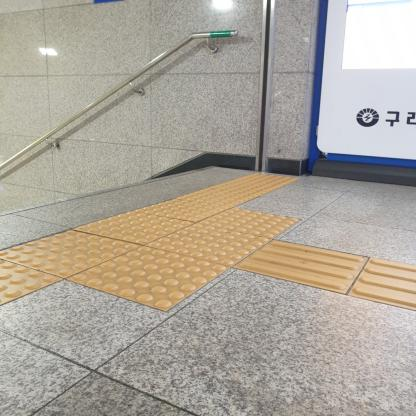go: (232, 239, 370, 294)
stop: (65, 245, 230, 312), (15, 229, 143, 278), (143, 223, 274, 267), (71, 211, 196, 245), (196, 207, 302, 239), (132, 198, 233, 223), (175, 188, 260, 207), (207, 179, 282, 196), (235, 173, 300, 187)
